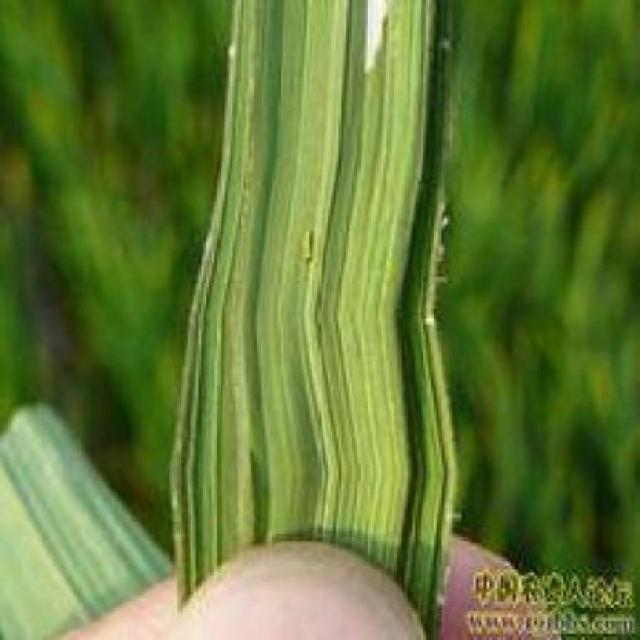leaf-folder: (284, 212, 325, 276)
